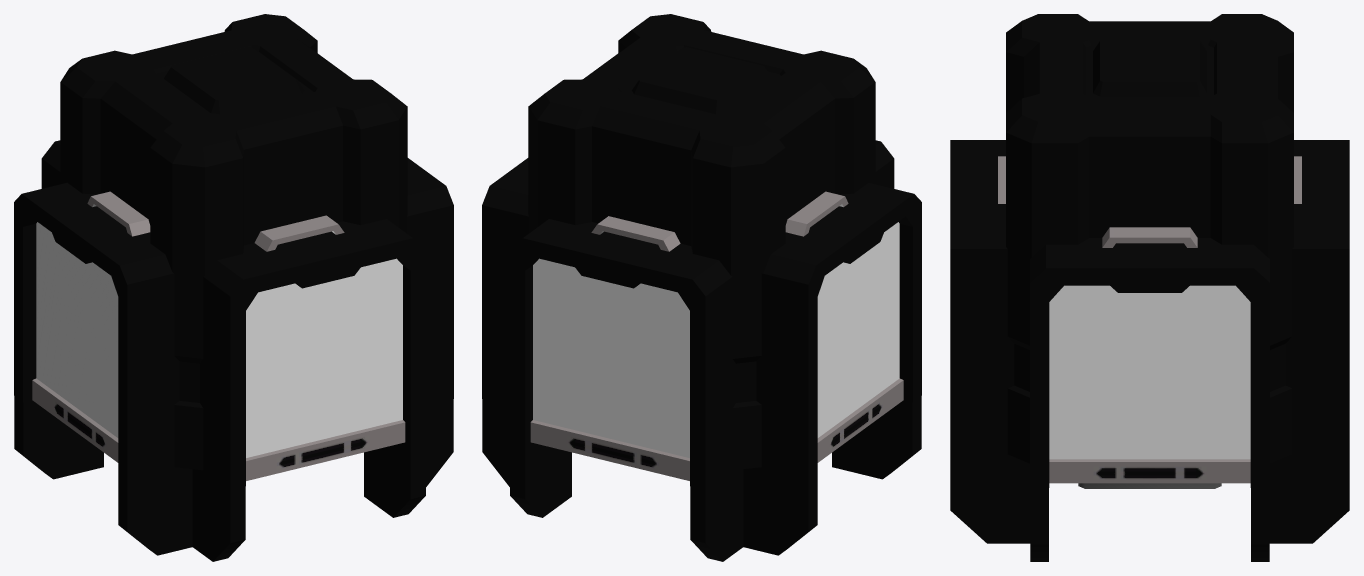
The model's file is splitter-a.glb.
3 views of the same model, side by side, from view 1: azimuth 30°, elevation 25°; view 2: azimuth 150°, elevation 25°; view 3: azimuth 270°, elevation 25° (orthographic). The views are drawn at different scales.
Parts seen in each view (by area): view 1: splitter-1; view 2: splitter-1; view 3: splitter-1.
Part boxes in pixels (left/top/right/bottom): splitter-1: left=14, top=14, right=453, bottom=561; splitter-1: left=482, top=14, right=921, bottom=561; splitter-1: left=950, top=14, right=1349, bottom=561.
Size of the model in its own units: 2.5 by 2.99 by 2.5.
2 materials, 1 textured.
